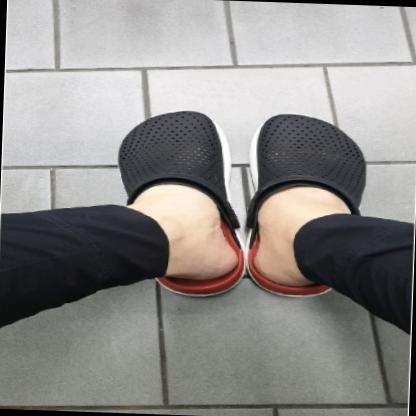no_safety-shoe: (234, 102, 378, 333), (92, 102, 244, 310)
